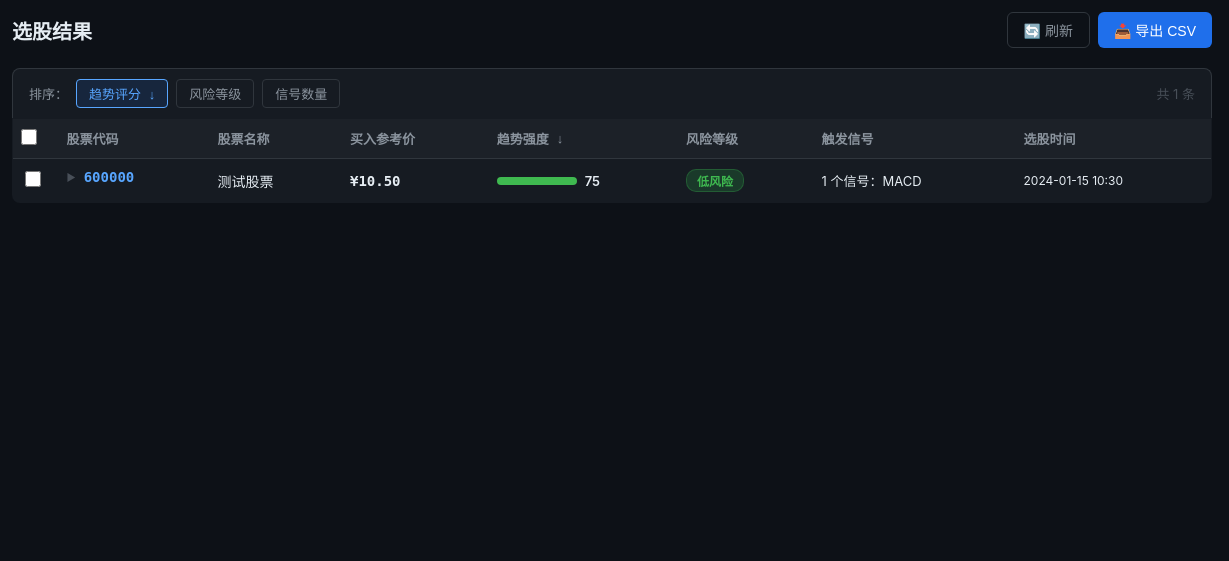
Scenario: ScreenerResultsView - 信号标签增强 › 描述文本显示与回退逻辑 › 信号 description 为空时，标签回退显示"分类名：label"格式
Click the row with class "result-row". click: point(612, 180)
box: [12,158,1212,202]
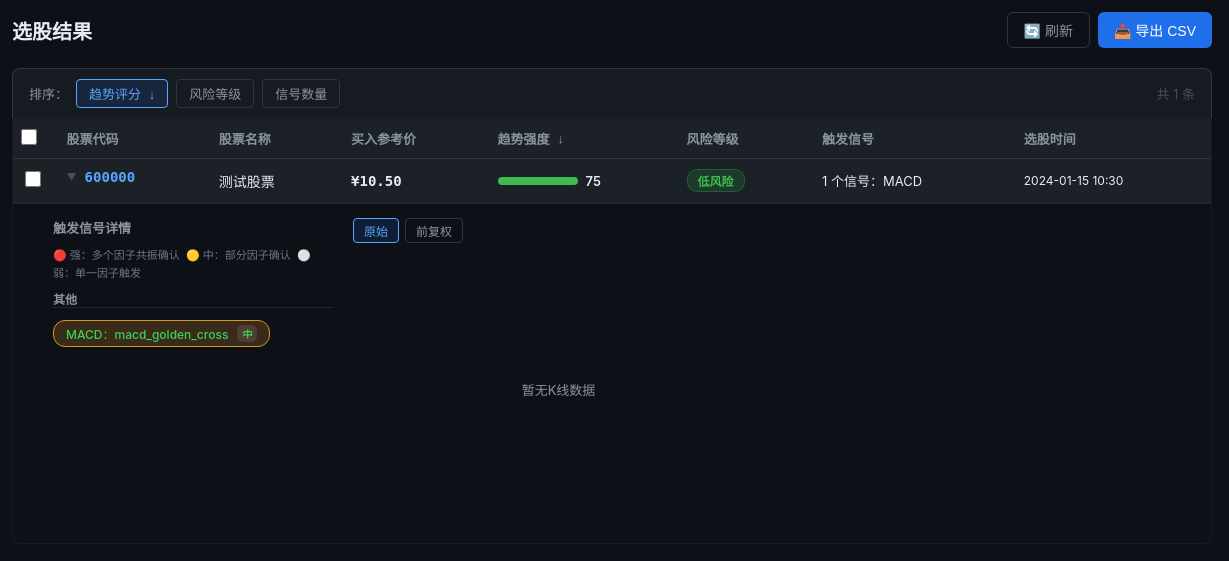
Expected: the element with class "signal-tag" is shown, [53,320,270,347]
Expected: the element with class "signal-tag" shows "MACD", [66,327,228,342]
Expected: the element with class "signal-tag" shows "macd_golden_cross", [66,327,228,342]
